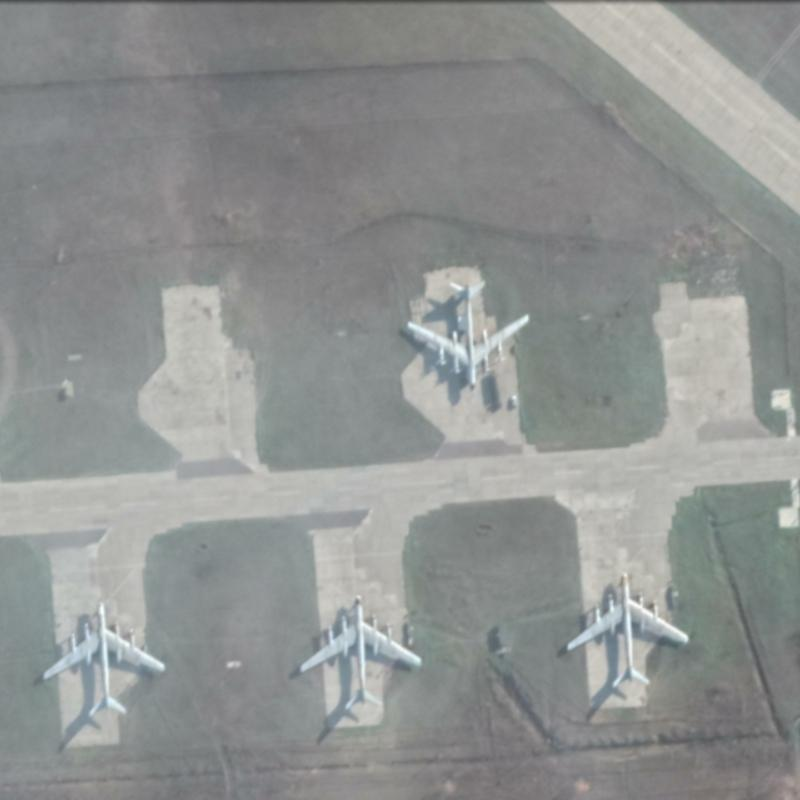A17: (39, 597, 168, 720), (563, 570, 690, 691), (296, 591, 423, 711), (404, 277, 531, 393)
